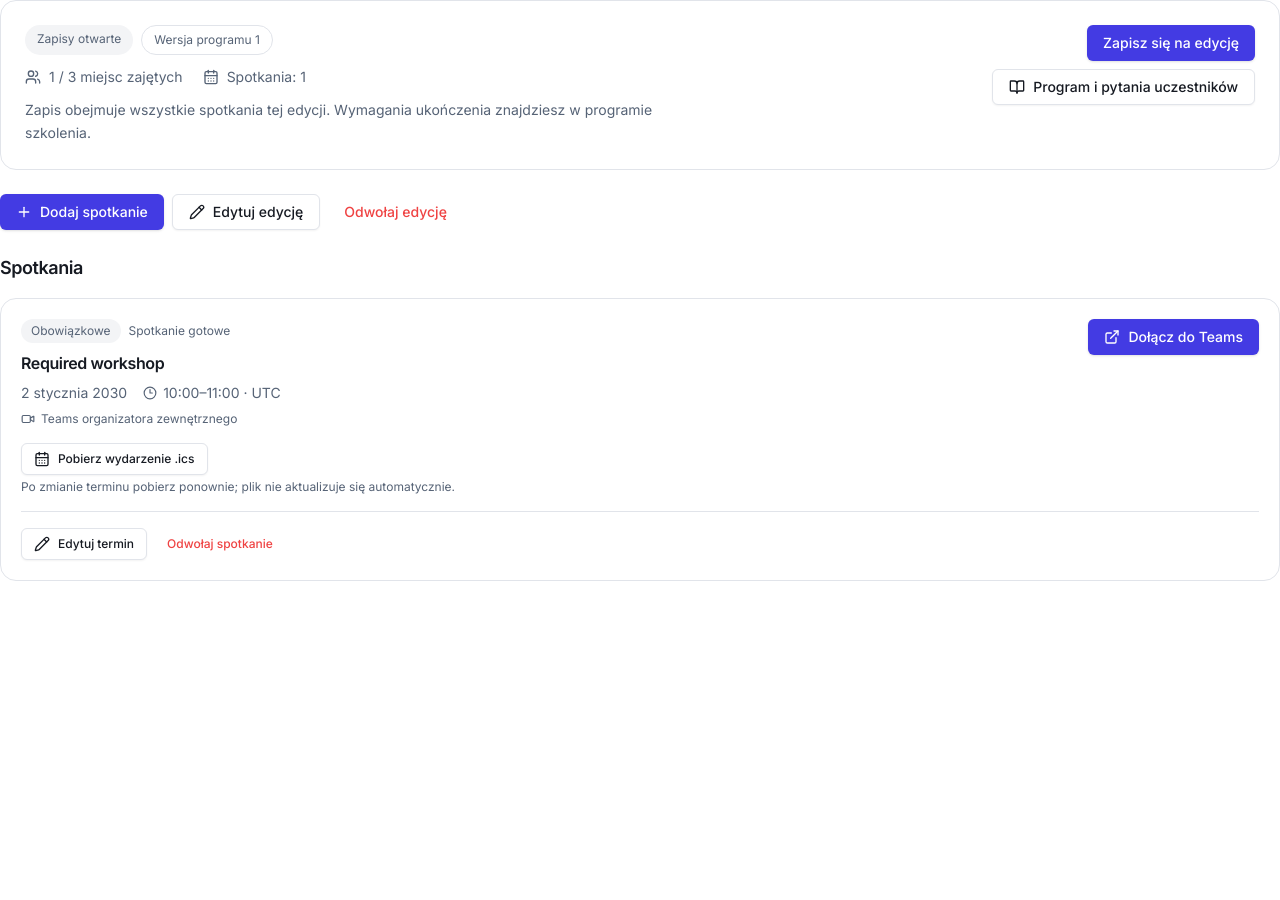
Scenario: Published session obligations › distinguishes Compass cancellation from the external Teams host action (session)
Click the button "Odwołaj spotkanie": click(220, 544) [155,528,285,560]
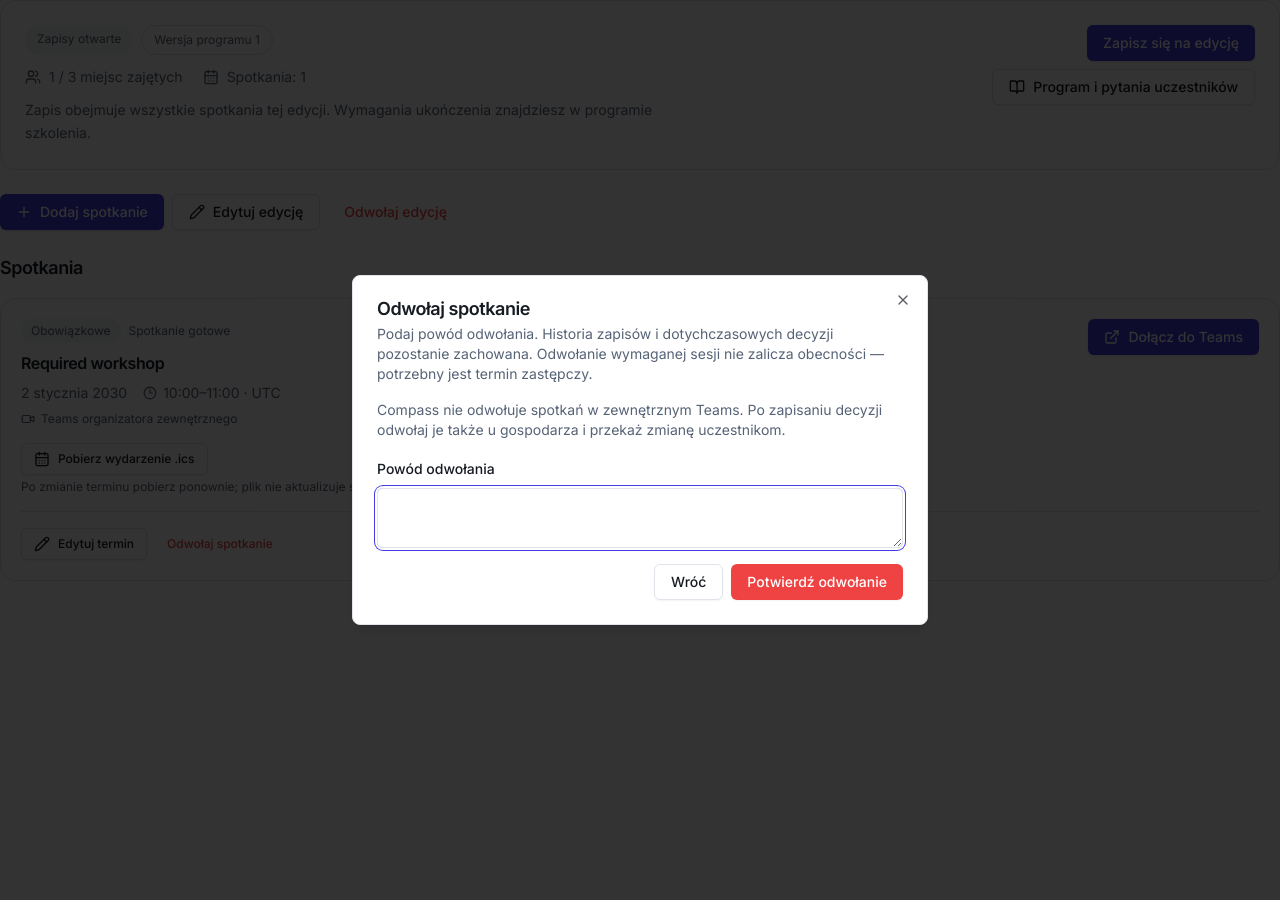
Expected: the text "Compass nie odwołuje spotkań w zewnętrznym Teams" is shown, [377,401,882,438]
In the text box labelled "Powód odwołania": (640, 518) [377,488,903,548], type "Trener przełożył warsztat"
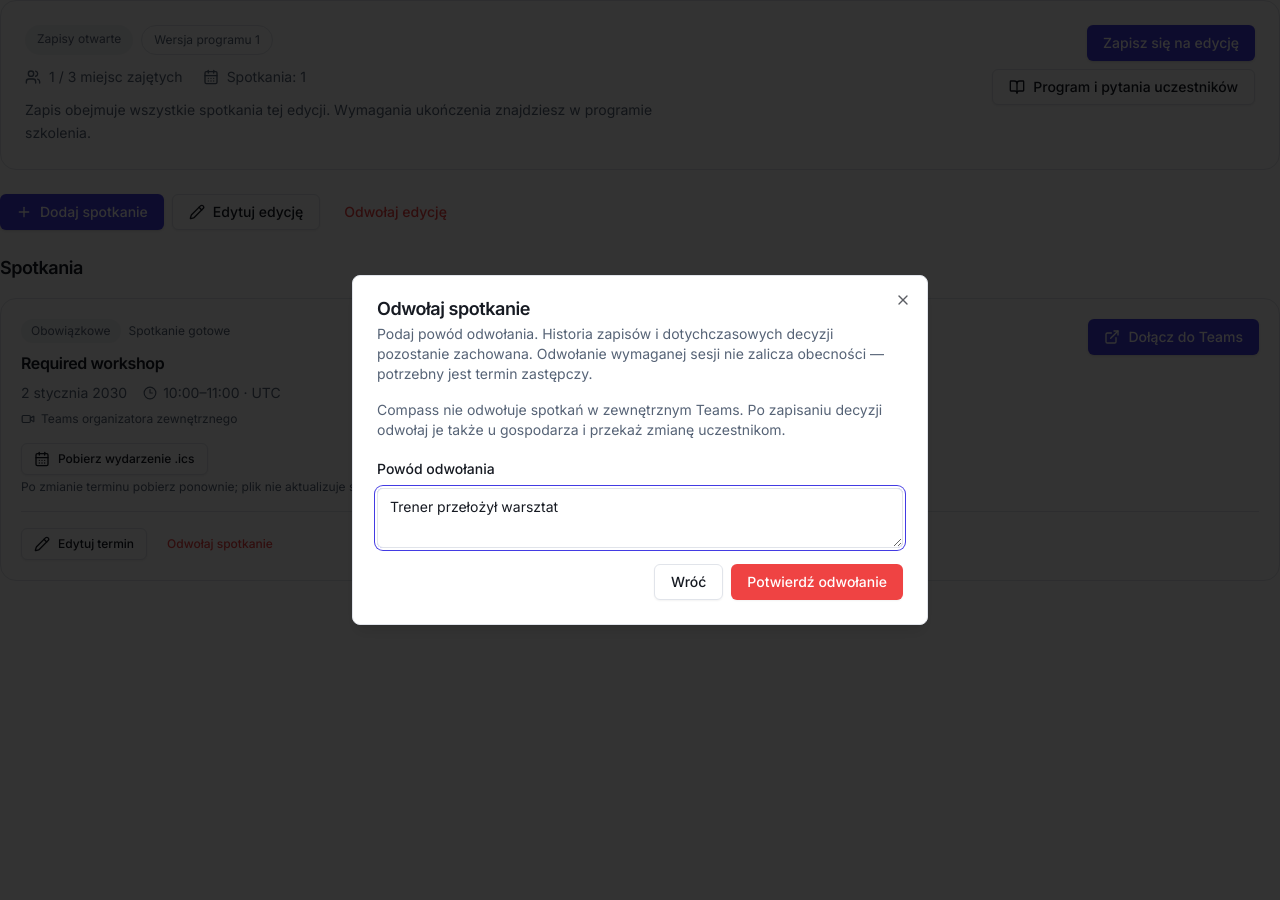
Click the button "Potwierdź odwołanie": click(817, 582) [731,564,903,600]
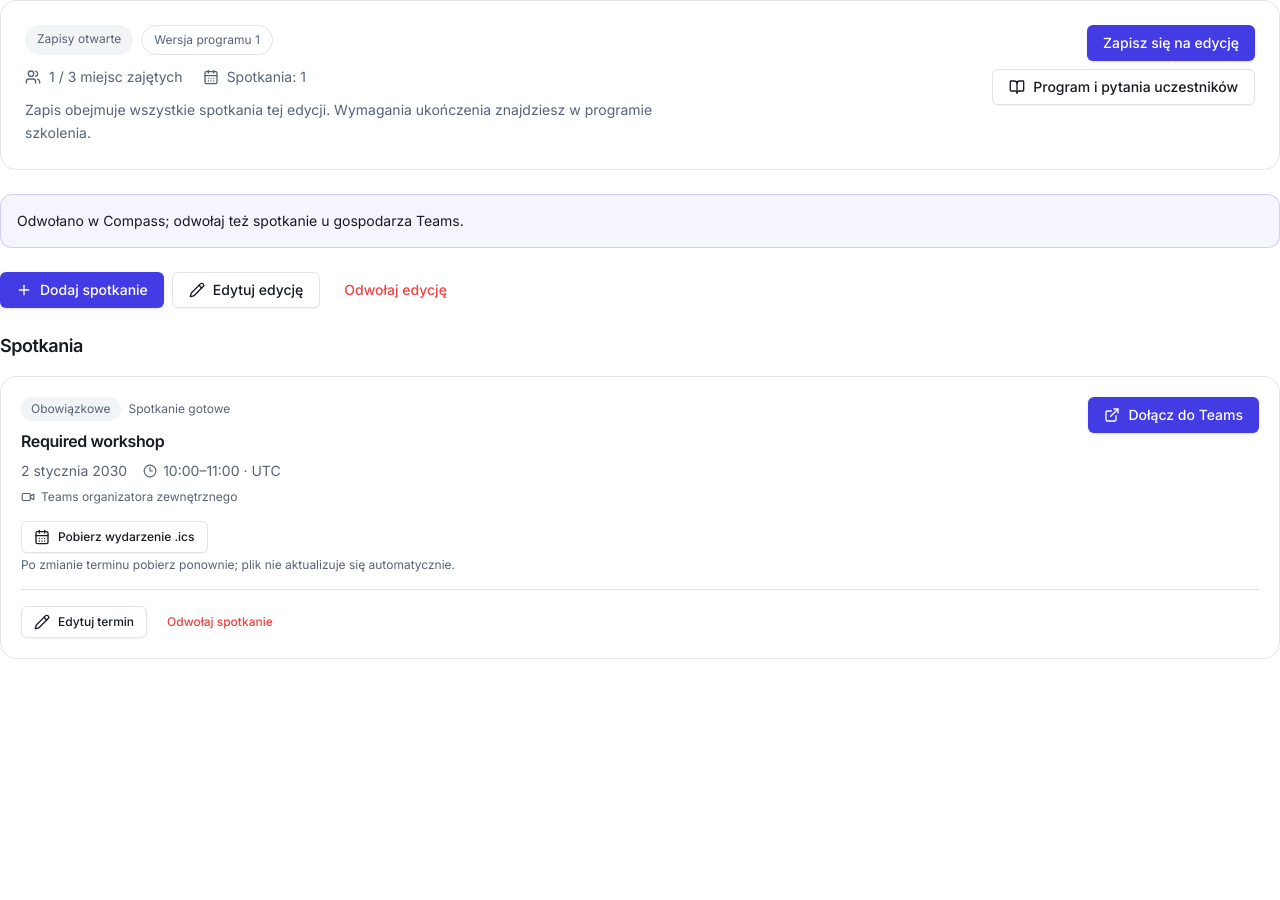
Expected: the message reads "Odwołano w Compass; odwołaj też spotkanie u gospodarza Teams.", [17,212,464,228]
